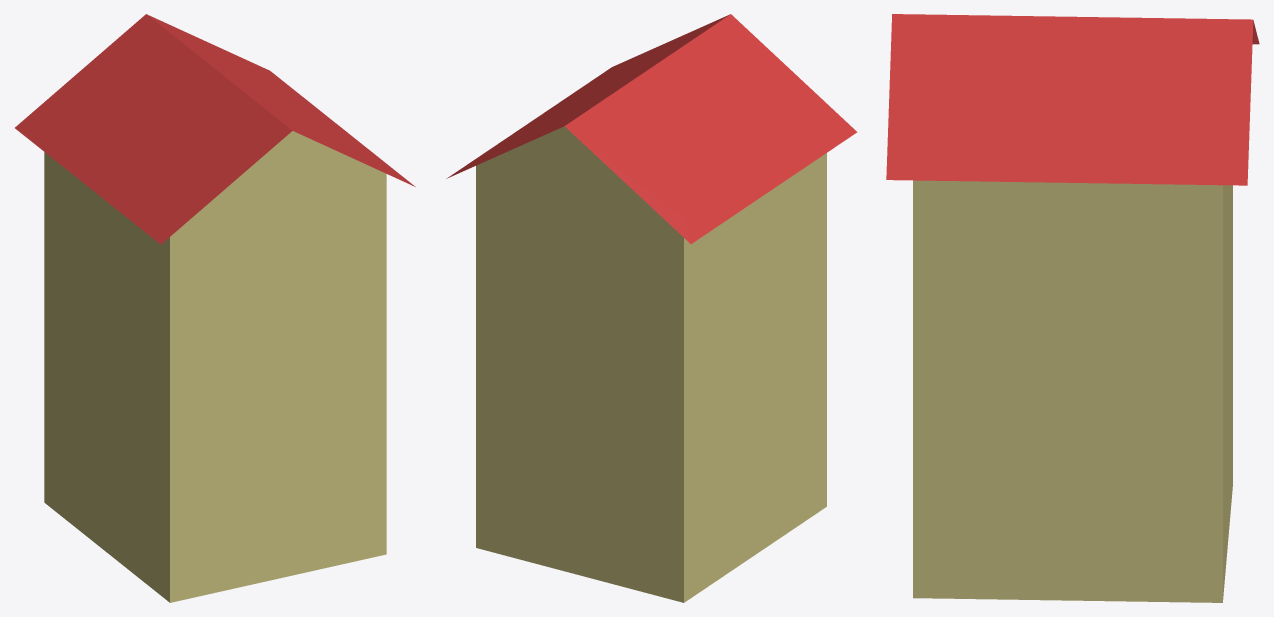
The picture shows the model from 3 angles, left to right: view 1: azimuth 30°, elevation 25°; view 2: azimuth 150°, elevation 25°; view 3: azimuth 270°, elevation 25°; orthographic projection. The views are drawn at different scales.
Size of the model in its own units: 3.39 by 3.64 by 5.66.
